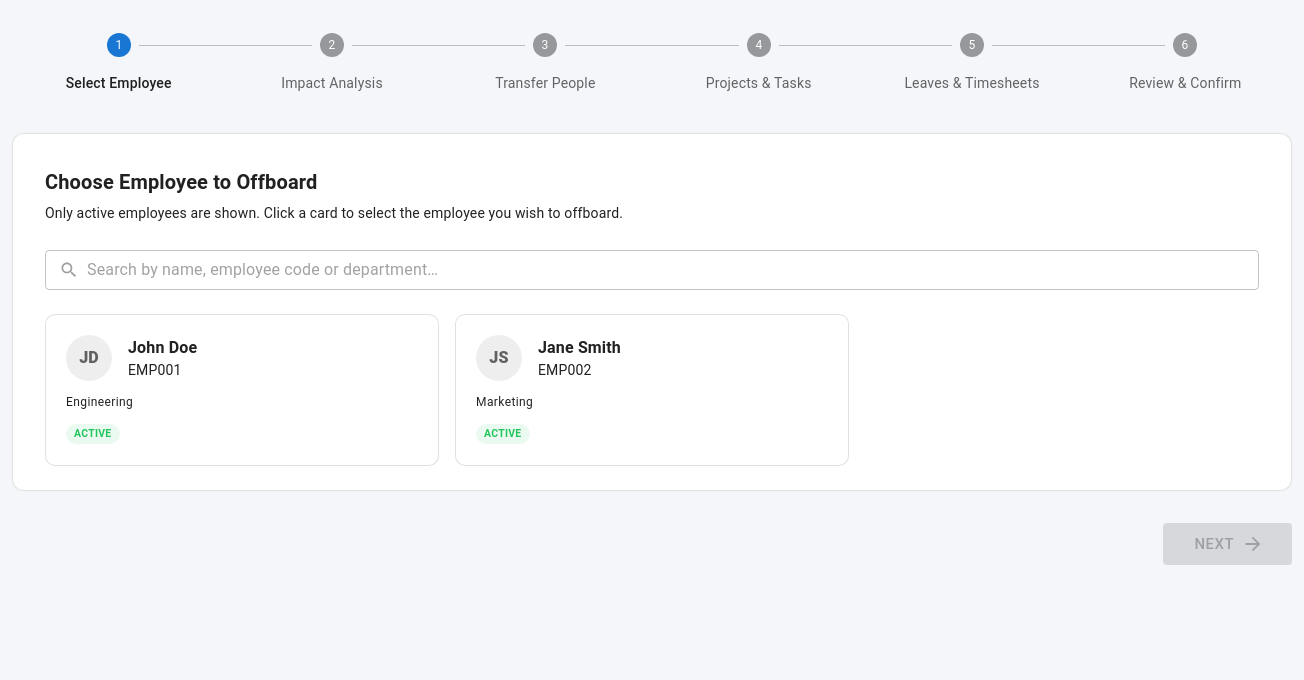
Scenario: OffboardingWizard › renders impact cards when impact data is available
This screenshot has width=1304, height=680.
Step 1. Click the text "John Doe" → click(163, 348), box [128,336,197,360]
(page scrolled)
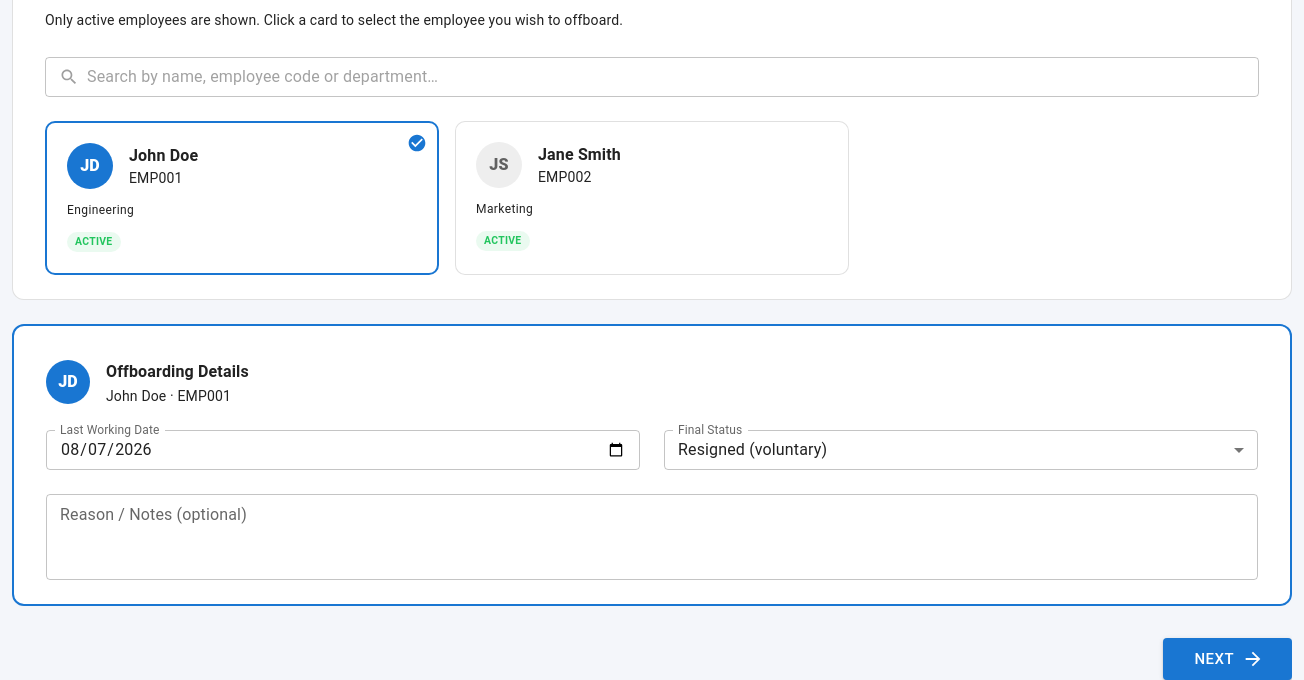
Step 2. Click the button "Next" → click(1227, 659), box [1162,638,1292,679]
(page scrolled)
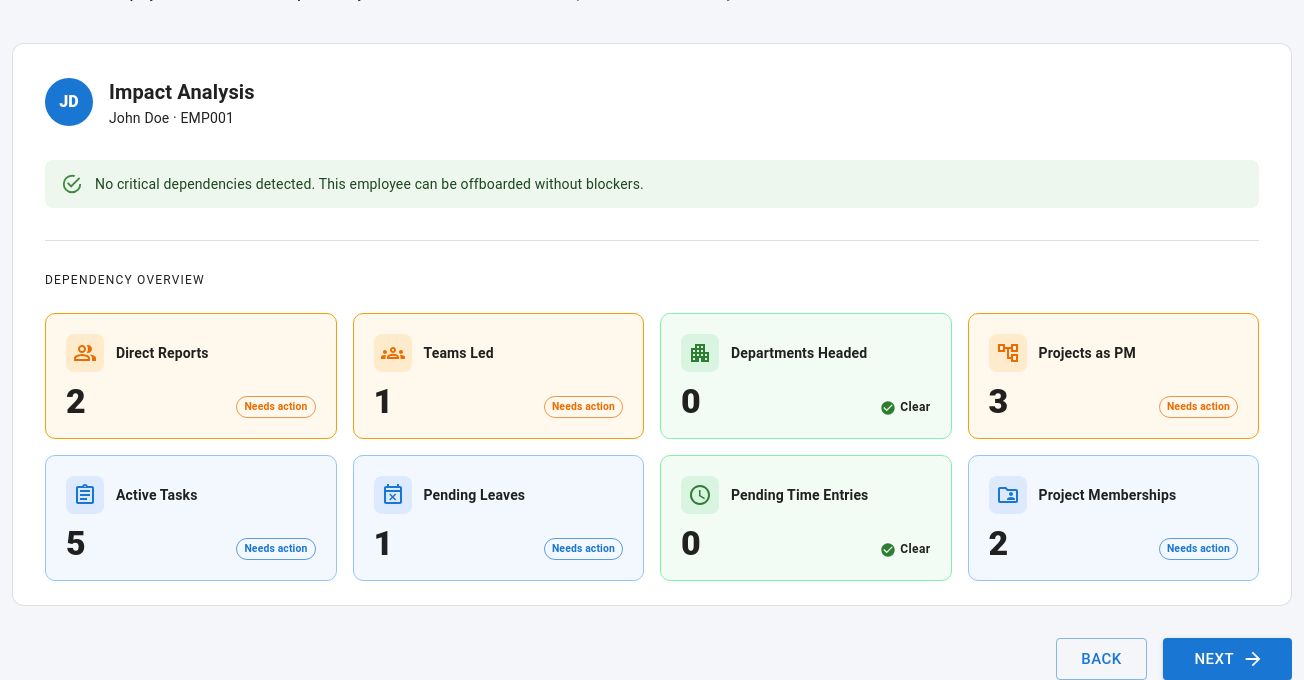
Expected: the text "Direct Reports" is shown, [116,344,209,362]
Expected: the text "Teams Led" is shown, [424,344,494,362]
Expected: the text "Projects as PM" is shown, [1038,344,1136,362]
